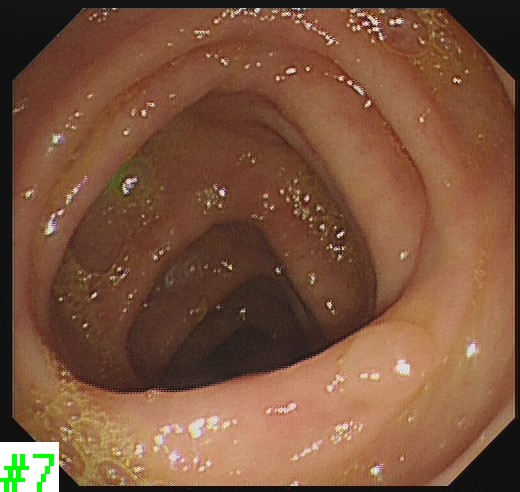others: (337, 319, 436, 407)
